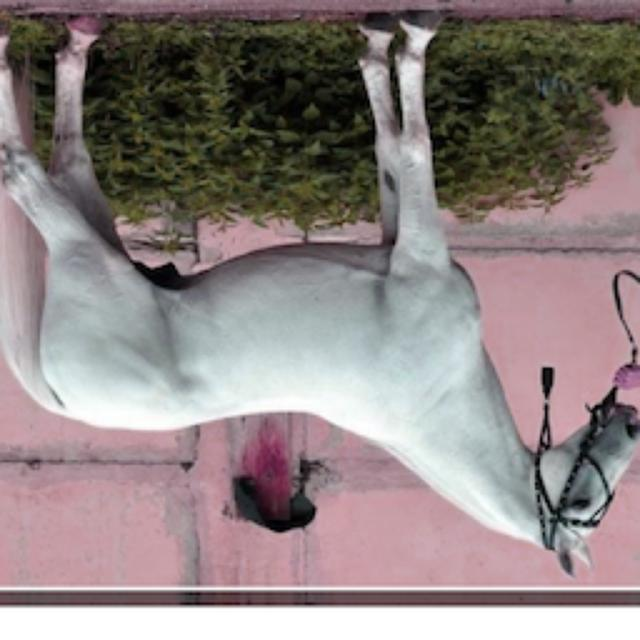Horse: (2, 8, 640, 582)
